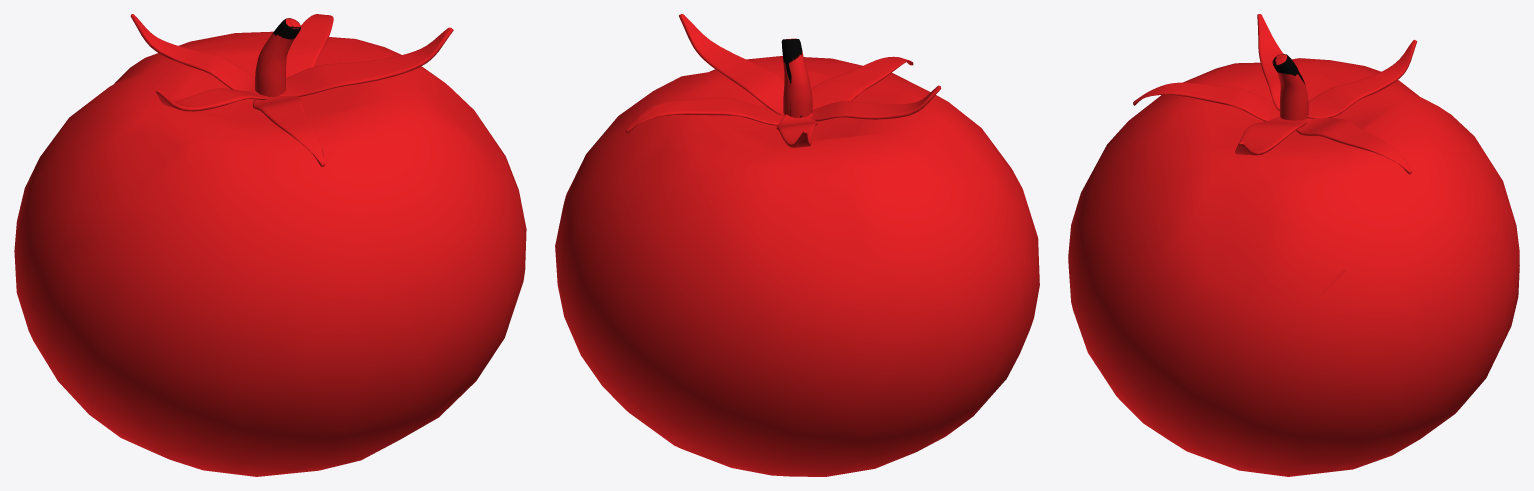
The model's file is tomato.fbx.
The picture shows the model from 3 angles, left to right: view 1: azimuth 30°, elevation 25°; view 2: azimuth 150°, elevation 25°; view 3: azimuth 270°, elevation 25°; orthographic projection. The views are drawn at different scales.
Visible parts, largest first — view 1: Sphere, Cube.004; view 2: Sphere, Cube.004; view 3: Sphere, Cube.004.
Boxes of the visible parts, left/top/right/bottom form: Sphere: left=14, top=31, right=526, bottom=476; Cube.004: left=130, top=14, right=453, bottom=166; Sphere: left=555, top=56, right=1039, bottom=476; Cube.004: left=625, top=14, right=941, bottom=148; Sphere: left=1068, top=58, right=1519, bottom=476; Cube.004: left=1133, top=14, right=1417, bottom=174.
Size of the model in its own units: 211 by 193 by 197.
Materials: 2 (2 with a texture image).
